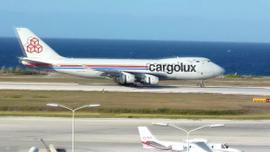aircraft: (15, 27, 225, 84)
